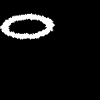chain: (0, 13, 53, 38)
